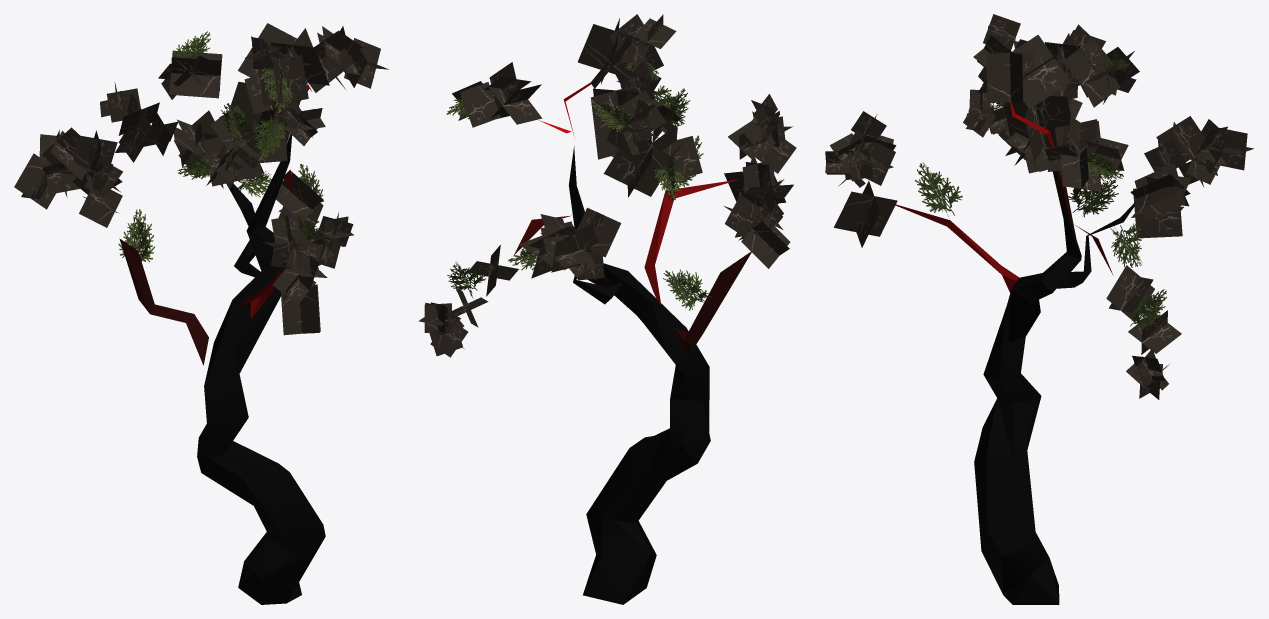
File: cpine2 lod2.FBX
3 renders of one model, left to right at view 1: azimuth 30°, elevation 25°; view 2: azimuth 150°, elevation 25°; view 3: azimuth 270°, elevation 25°, orthographic.
Visible parts, largest first — view 1: cpine_LOD1; view 2: cpine_LOD1; view 3: cpine_LOD1.
Boxes of the visible parts, left/top/right/bottom form: cpine_LOD1: left=14, top=23, right=388, bottom=604; cpine_LOD1: left=418, top=14, right=796, bottom=604; cpine_LOD1: left=825, top=14, right=1253, bottom=604.
Size of the model in its own units: 106482 by 159391 by 109305.
